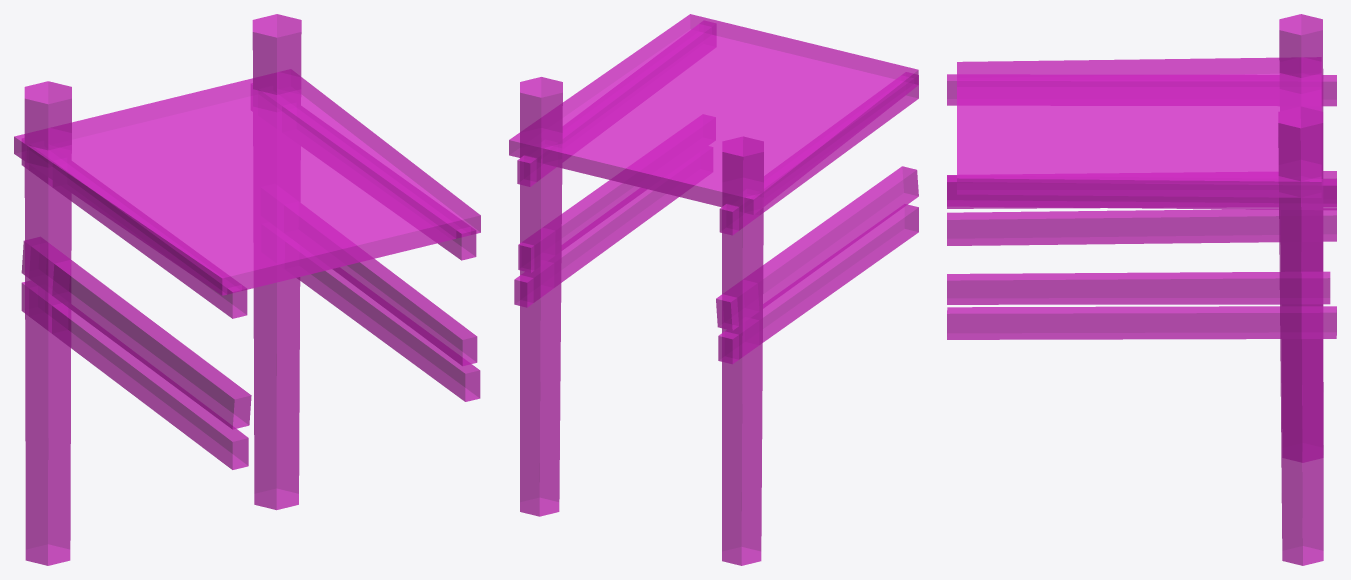
File: SM_Bld_Dock_Wood_End_01_Collision.fbx
The picture shows the model from 3 angles, left to right: view 1: azimuth 30°, elevation 25°; view 2: azimuth 150°, elevation 25°; view 3: azimuth 270°, elevation 25°; orthographic projection. The views are drawn at different scales.
Visible parts, largest first — view 1: SM_Bld_Dock_Wood_End_01_Collision; view 2: SM_Bld_Dock_Wood_End_01_Collision; view 3: SM_Bld_Dock_Wood_End_01_Collision.
Part boxes in pixels (x1,y1,x2,y2): SM_Bld_Dock_Wood_End_01_Collision: [14, 14, 480, 565]; SM_Bld_Dock_Wood_End_01_Collision: [509, 14, 918, 565]; SM_Bld_Dock_Wood_End_01_Collision: [947, 14, 1336, 565].
Size of the model in its own units: 284 by 464 by 374.
